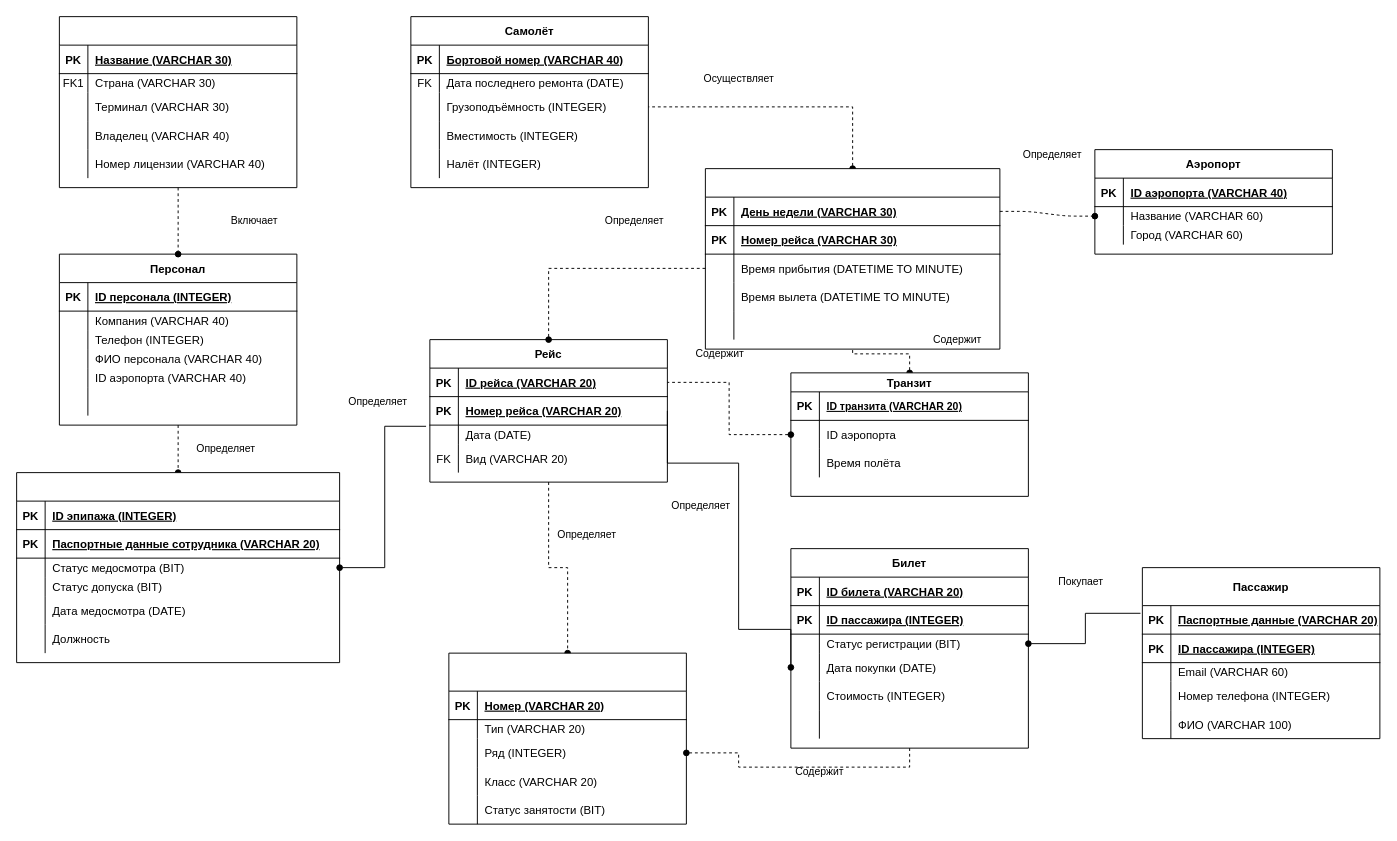
This 1397x841 diagram has some shape labels left out. Each missing label, with the box of its shape:
Авиакомпания: (58, 16, 297, 188)
Место: (448, 652, 686, 824)
Расписание: (704, 168, 1000, 349)
Экипаж: (16, 472, 340, 663)
